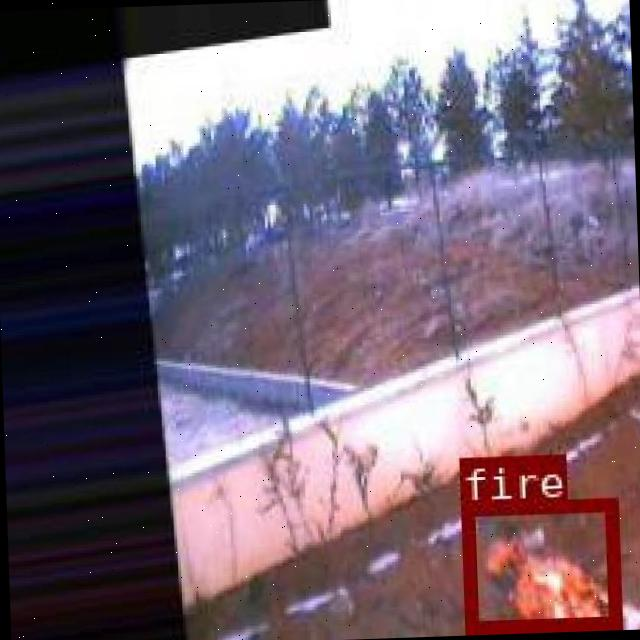fire: (459, 495, 616, 629)
